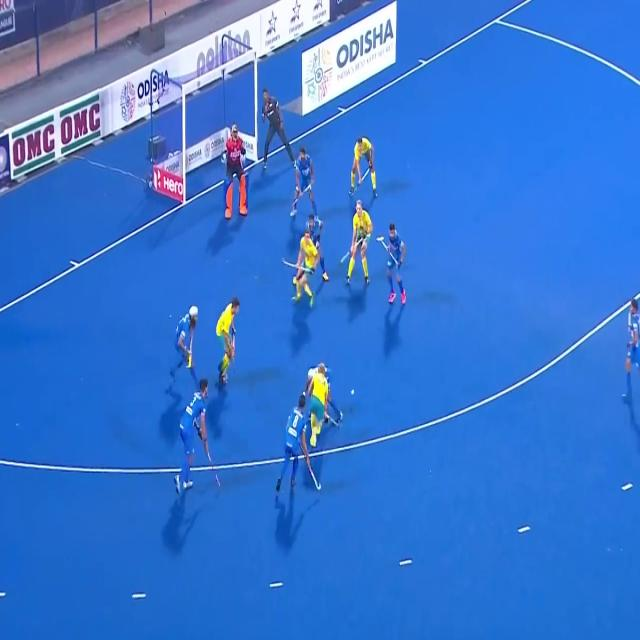ball: (349, 384, 357, 399)
